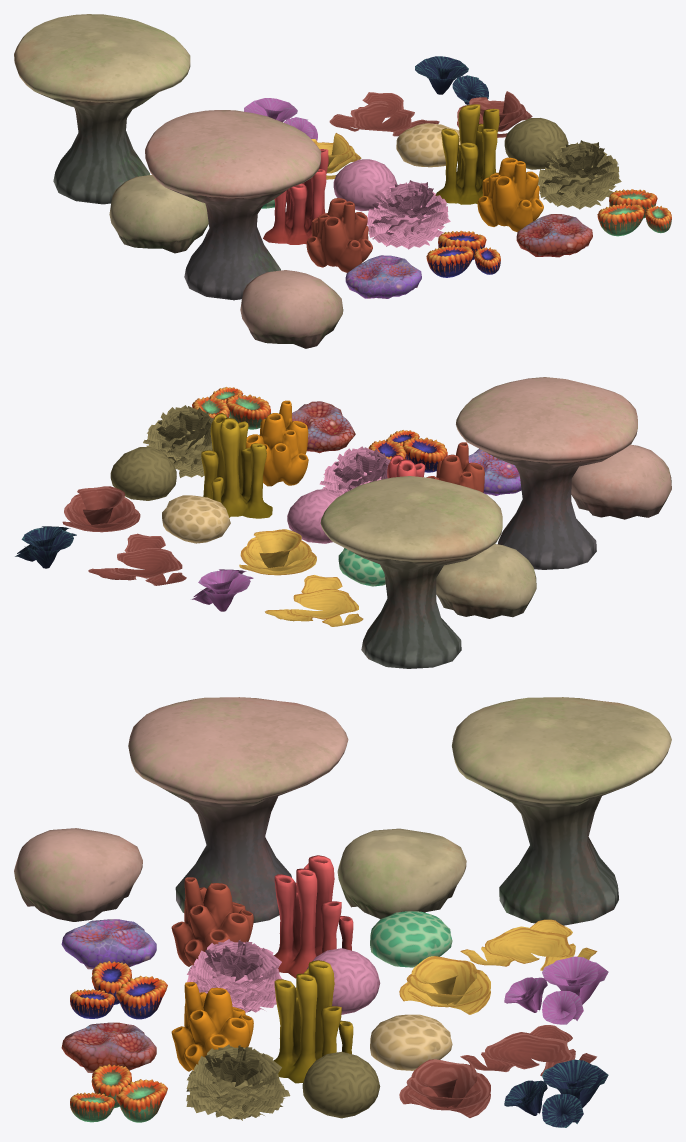
Rendered from coral.glb.
3 renders of one model, top to bottom at view 1: azimuth 30°, elevation 25°; view 2: azimuth 150°, elevation 25°; view 3: azimuth 270°, elevation 25°, orthographic. The views are drawn at different scales.
Visible parts, largest first — view 1: Coral02_low1_M_coral_03_0, Coral02_low_M_coral_02_0, Coral01_low_M_coral_02_0, Coral01_low1_M_coral_03_0, coral11_M_coral_0, coral23_M_coral_01_0, coral14_M_coral_0, coral19_M_coral_01_0, coral10_M_coral_0, coral25_M_coral_01_0, coral20_M_coral_01_0, coral01_M_coral_0 (+10 smaller); view 2: Coral02_low1_M_coral_03_0, Coral02_low_M_coral_02_0, Coral01_low1_M_coral_03_0, Coral01_low_M_coral_02_0, coral11_M_coral_0, coral10_M_coral_0, coral14_M_coral_0, coral15_M_coral_0, coral28_M_coral_01_0, coral16_M_coral_0, coral17_M_coral_0, coral24_M_coral_01_0 (+12 smaller); view 3: Coral02_low1_M_coral_03_0, Coral02_low_M_coral_02_0, Coral01_low_M_coral_02_0, Coral01_low1_M_coral_03_0, coral25_M_coral_01_0, coral11_M_coral_0, coral14_M_coral_0, coral23_M_coral_01_0, coral10_M_coral_0, coral19_M_coral_01_0, coral18_M_coral_0, coral21_M_coral_01_0 (+12 smaller).
Part boxes in pixels (x1,y1,x2,y2): Coral02_low1_M_coral_03_0: [14, 14, 190, 204]; Coral02_low_M_coral_02_0: [145, 110, 321, 300]; Coral01_low_M_coral_02_0: [240, 270, 343, 348]; Coral01_low1_M_coral_03_0: [109, 175, 208, 253]; coral11_M_coral_0: [435, 104, 499, 204]; coral23_M_coral_01_0: [367, 180, 450, 249]; coral14_M_coral_0: [538, 140, 621, 209]; coral19_M_coral_01_0: [306, 198, 372, 272]; coral10_M_coral_0: [477, 157, 543, 232]; coral25_M_coral_01_0: [263, 149, 328, 244]; coral20_M_coral_01_0: [345, 255, 421, 298]; coral01_M_coral_0: [516, 214, 592, 257]; Coral02_low1_M_coral_03_0: [320, 476, 502, 668]; Coral02_low_M_coral_02_0: [456, 377, 637, 569]; Coral01_low1_M_coral_03_0: [436, 544, 536, 618]; Coral01_low_M_coral_02_0: [571, 444, 671, 519]; coral11_M_coral_0: [201, 413, 272, 518]; coral10_M_coral_0: [246, 400, 308, 486]; coral14_M_coral_0: [143, 405, 213, 477]; coral15_M_coral_0: [110, 447, 176, 500]; coral28_M_coral_01_0: [239, 529, 316, 575]; coral16_M_coral_0: [62, 486, 140, 532]; coral17_M_coral_0: [88, 533, 186, 585]; coral24_M_coral_01_0: [265, 575, 363, 626]; Coral02_low1_M_coral_03_0: [452, 697, 671, 925]; Coral02_low_M_coral_02_0: [128, 697, 348, 923]; Coral01_low_M_coral_02_0: [14, 828, 142, 921]; Coral01_low1_M_coral_03_0: [337, 828, 466, 918]; coral25_M_coral_01_0: [274, 855, 353, 978]; coral11_M_coral_0: [273, 960, 353, 1083]; coral14_M_coral_0: [186, 1044, 290, 1120]; coral23_M_coral_01_0: [187, 939, 283, 1012]; coral10_M_coral_0: [171, 982, 253, 1071]; coral19_M_coral_01_0: [171, 877, 253, 966]; coral18_M_coral_0: [504, 1059, 608, 1127]; coral21_M_coral_01_0: [504, 956, 608, 1024].
Bounding box in the file's own units: 0.259 × 0.0805 × 0.259.
4 materials, 4 textured.
